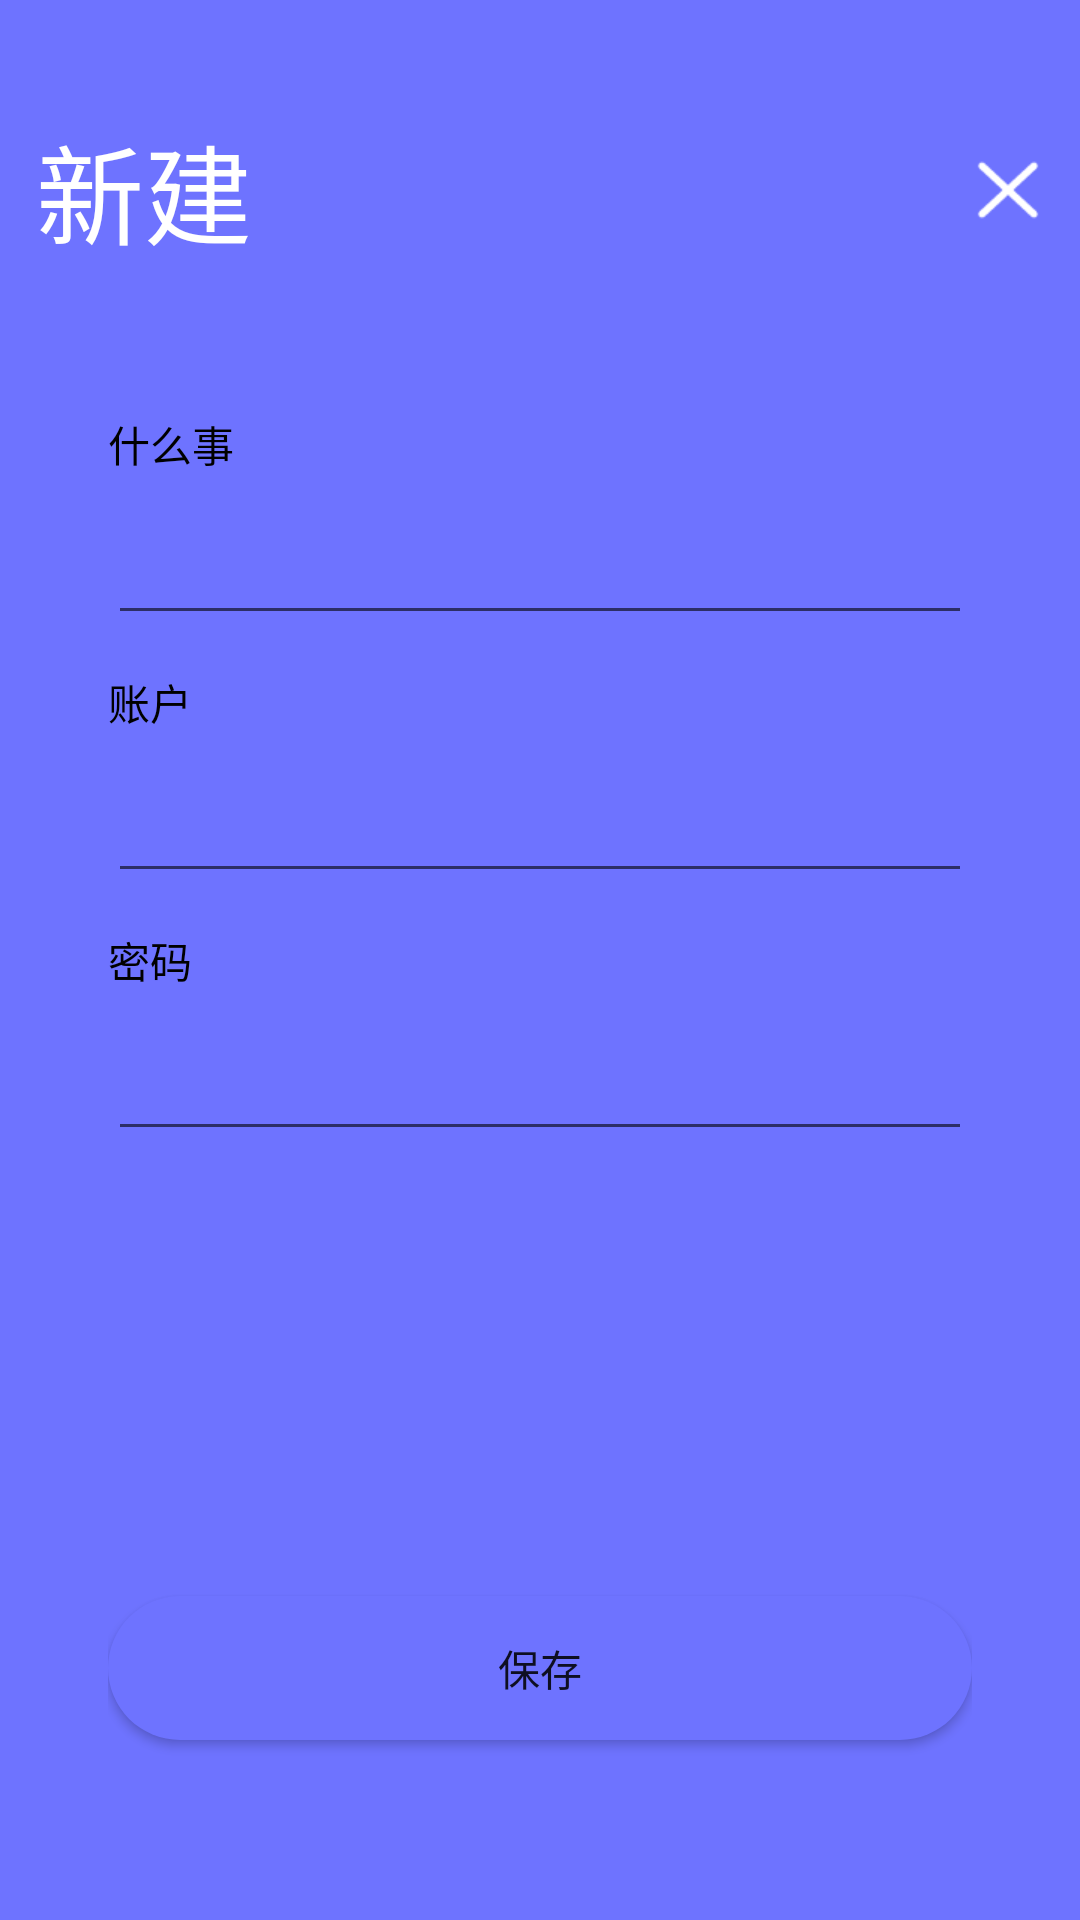

Point at icon controls on the screen. Image size 1080 x 1920, points as (x=x, y=y).
close: (x=1008, y=190)
